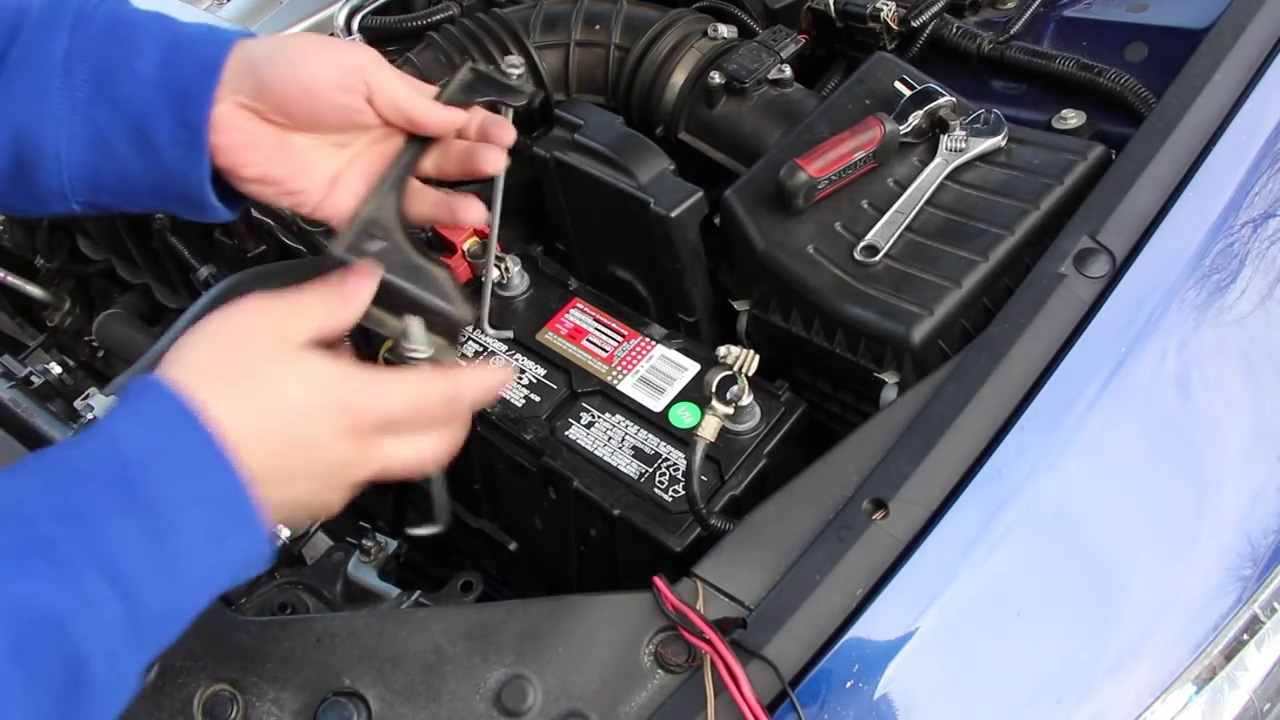battery: (389, 201, 795, 545)
neg_disconnected: (669, 329, 785, 486)
pos_touched: (383, 143, 540, 353)
